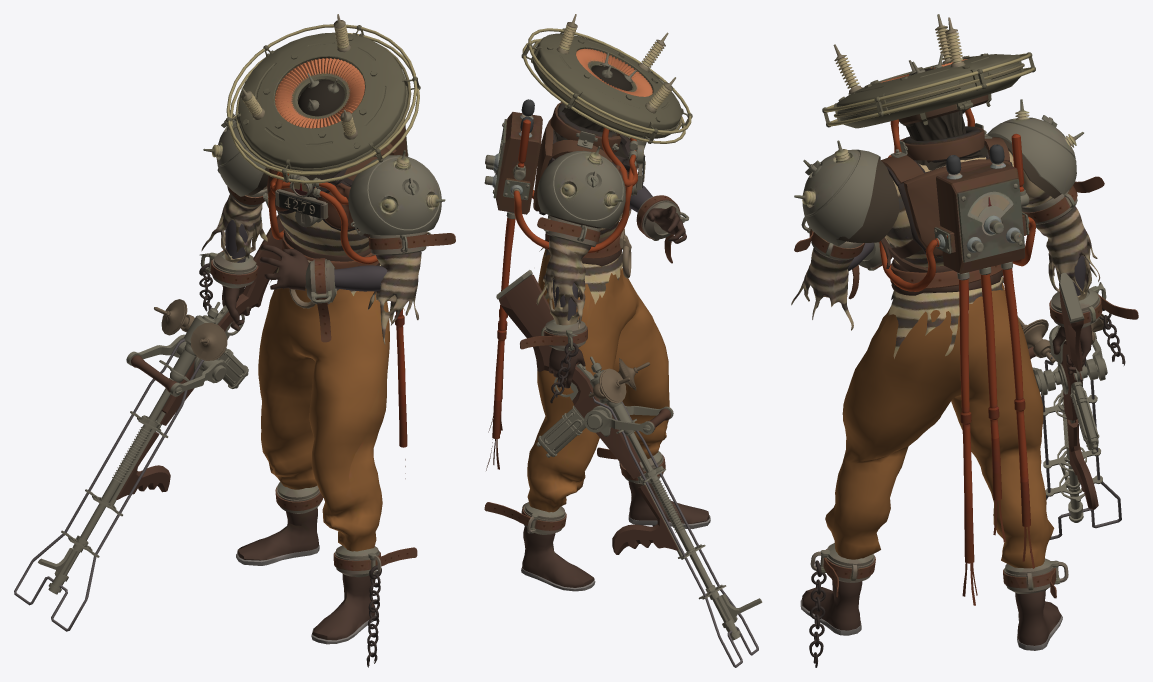
File: Seven.glb
The picture shows the model from 3 angles, left to right: view 1: azimuth 30°, elevation 25°; view 2: azimuth 150°, elevation 25°; view 3: azimuth 270°, elevation 25°; orthographic projection. The views are drawn at different scales.
Parts seen in each view (by area): view 1: models\heroes_staging\gigawatt_prisoner\gigawatt_prisoner.vm (×3); view 2: models\heroes_staging\gigawatt_prisoner\gigawatt_prisoner.vm (×3); view 3: models\heroes_staging\gigawatt_prisoner\gigawatt_prisoner.vm (×3).
Boxes of the visible parts, x1,y1,x2,y2 form: models\heroes_staging\gigawatt_prisoner\gigawatt_prisoner.vm (×3): (14,14,455,667); models\heroes_staging\gigawatt_prisoner\gigawatt_prisoner.vm (×3): (484,14,762,667); models\heroes_staging\gigawatt_prisoner\gigawatt_prisoner.vm (×3): (791,14,1138,667).
Bounding box in the file's own units: 1.63 × 2.81 × 1.33.
4 materials, 4 textured.
